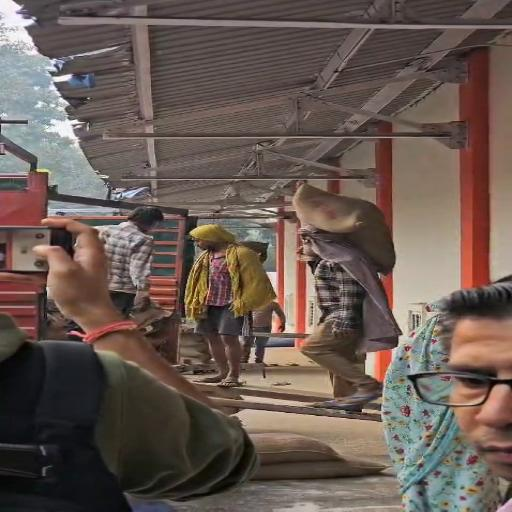bag: (291, 178, 402, 277)
